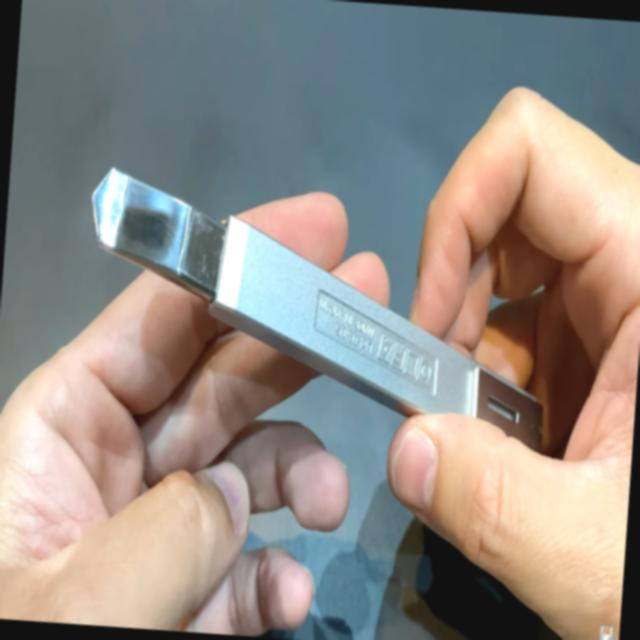cutter: (0, 58, 640, 602)
